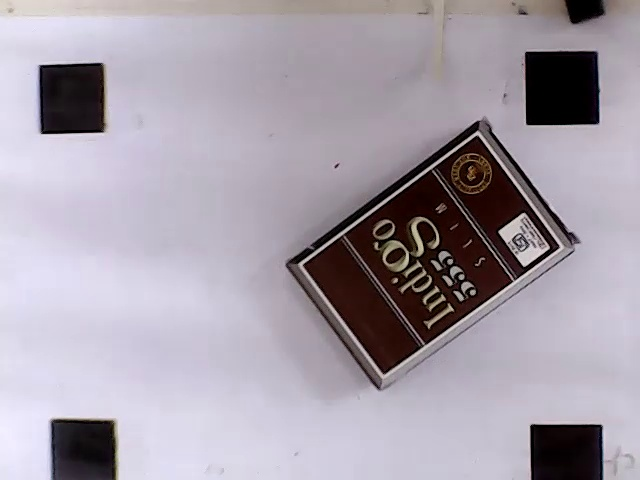BEX: (300, 131, 563, 377)
